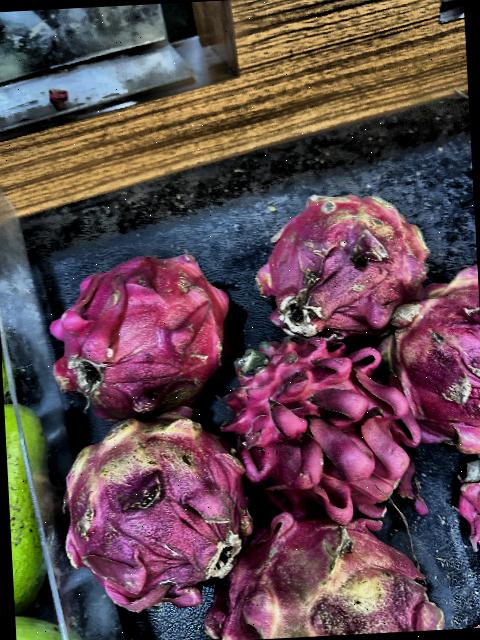buah-naga-belum-matang: (36, 412, 262, 592), (234, 191, 442, 339), (210, 515, 438, 640)
buah-naga-matang: (224, 336, 422, 522), (40, 248, 237, 421), (380, 277, 480, 455)
